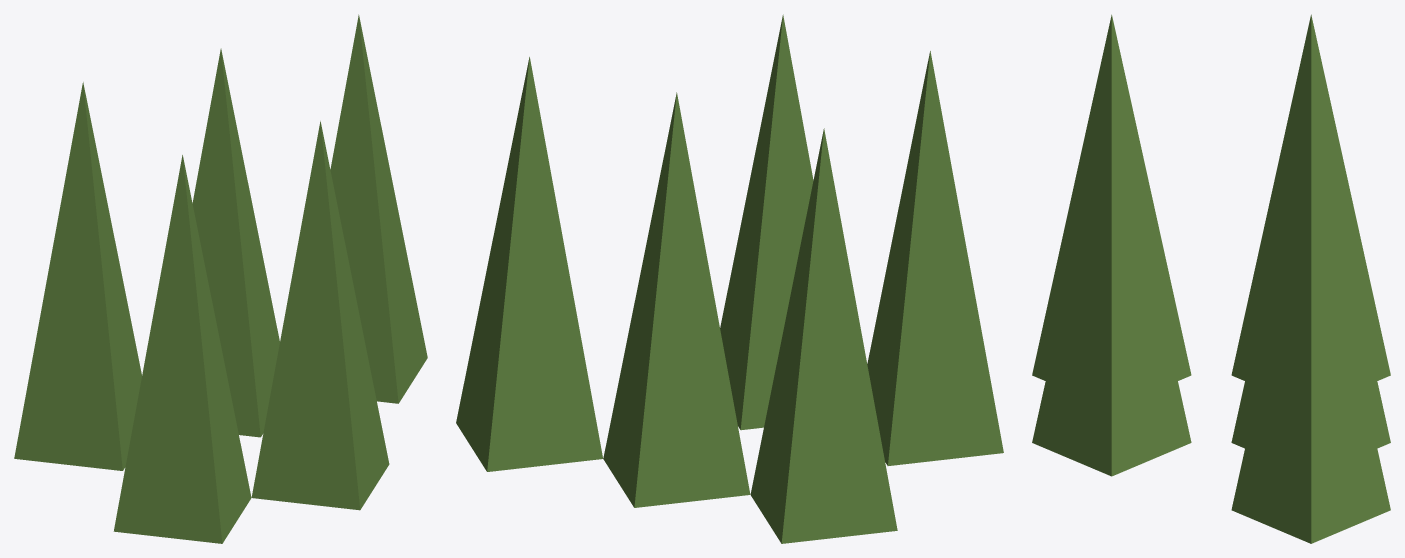
The model's file is grass_a.glb.
3 views of the same model, side by side, from view 1: azimuth 30°, elevation 25°; view 2: azimuth 150°, elevation 25°; view 3: azimuth 270°, elevation 25° (orthographic). The views are drawn at different scales.
Visible parts, largest first — view 1: grass_a; view 2: grass_a; view 3: grass_a.
Boxes of the visible parts, x1=… form: grass_a: x1=14, y1=14, x2=427, y2=543; grass_a: x1=456, y1=14, x2=1003, y2=543; grass_a: x1=1032, y1=14, x2=1390, y2=543.
Size of the model in its own units: 0.6 by 0.5 by 0.45.
